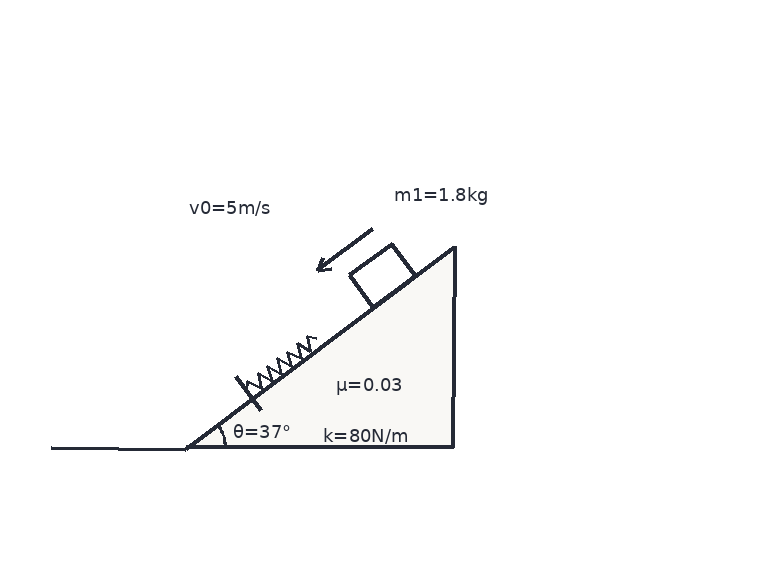block: (347, 242, 417, 309)
ramp: (183, 244, 455, 450)
spring: (245, 334, 318, 392)
